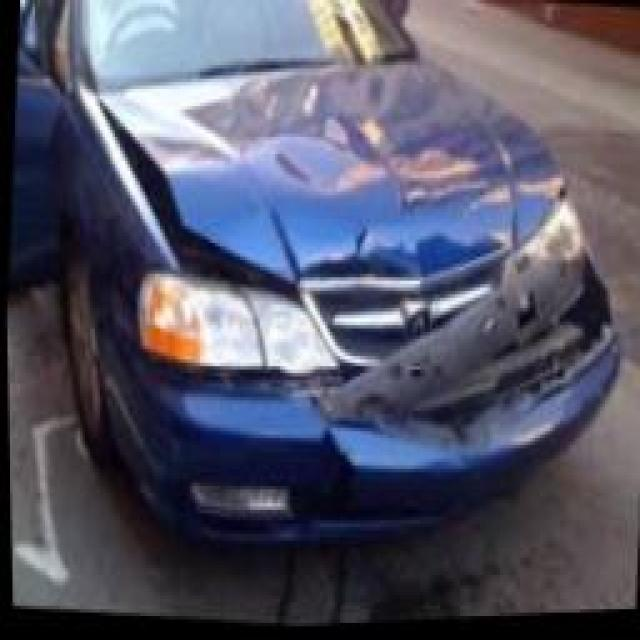replaceable: (314, 194, 620, 536), (100, 116, 214, 242)
